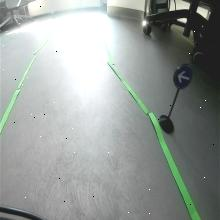left: (173, 62, 192, 90)
